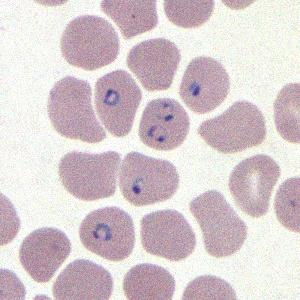Infected: (93, 70, 142, 139), (119, 152, 181, 206), (79, 206, 136, 261), (138, 95, 190, 151)
Uninfected: (189, 189, 248, 258), (47, 75, 105, 144), (198, 101, 267, 153), (229, 153, 281, 219), (60, 16, 121, 70), (179, 56, 232, 114), (59, 148, 119, 199), (19, 226, 72, 283), (126, 37, 179, 91), (141, 208, 194, 260), (52, 258, 114, 300), (123, 264, 174, 300)
